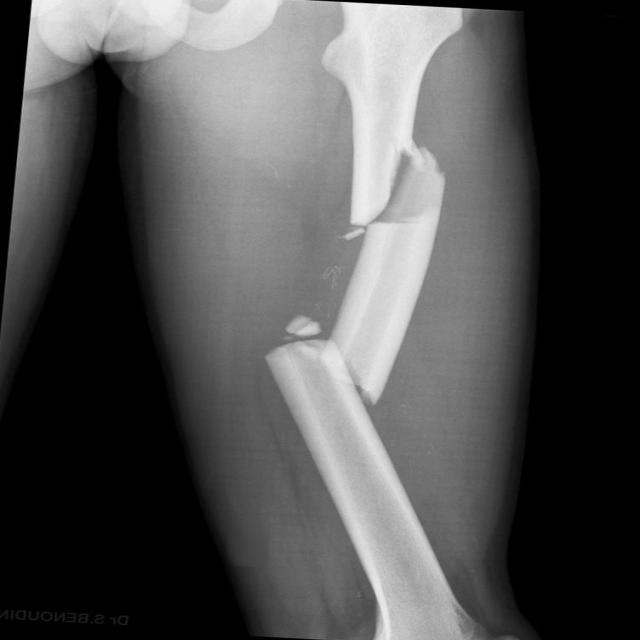Segmental: (248, 128, 508, 427)
